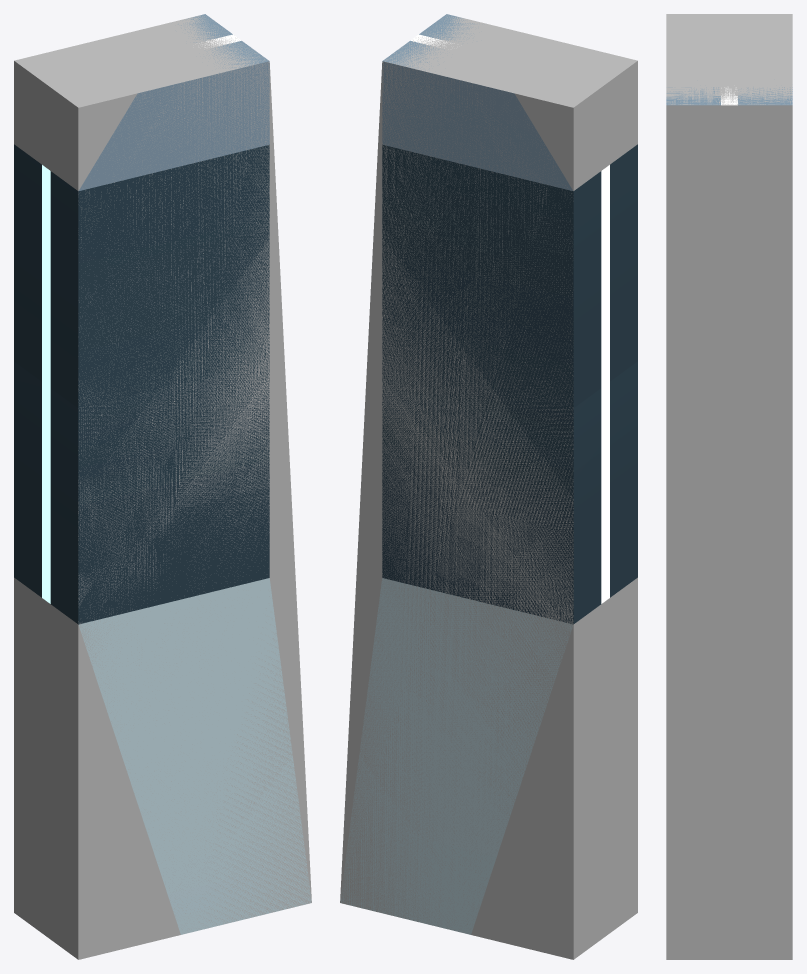
The model's file is SM_OuterColumn.fbx.
3 views of the same model, side by side, from view 1: azimuth 30°, elevation 25°; view 2: azimuth 150°, elevation 25°; view 3: azimuth 270°, elevation 25° (orthographic). The views are drawn at different scales.
Visible parts, largest first — view 1: SM_OuterColumn, SM_OuterColumn_ConvexHulls; view 2: SM_OuterColumn, SM_OuterColumn_ConvexHulls; view 3: SM_OuterColumn_ConvexHulls, SM_OuterColumn.
Part boxes in pixels (box(x1,y1,x2,y2)): SM_OuterColumn: box(14, 14, 311, 934); SM_OuterColumn_ConvexHulls: box(14, 15, 311, 959); SM_OuterColumn: box(340, 14, 637, 934); SM_OuterColumn_ConvexHulls: box(340, 14, 637, 959); SM_OuterColumn_ConvexHulls: box(666, 14, 792, 959); SM_OuterColumn: box(666, 87, 792, 105).
Size of the model in its own units: 234 by 112 by 815.
